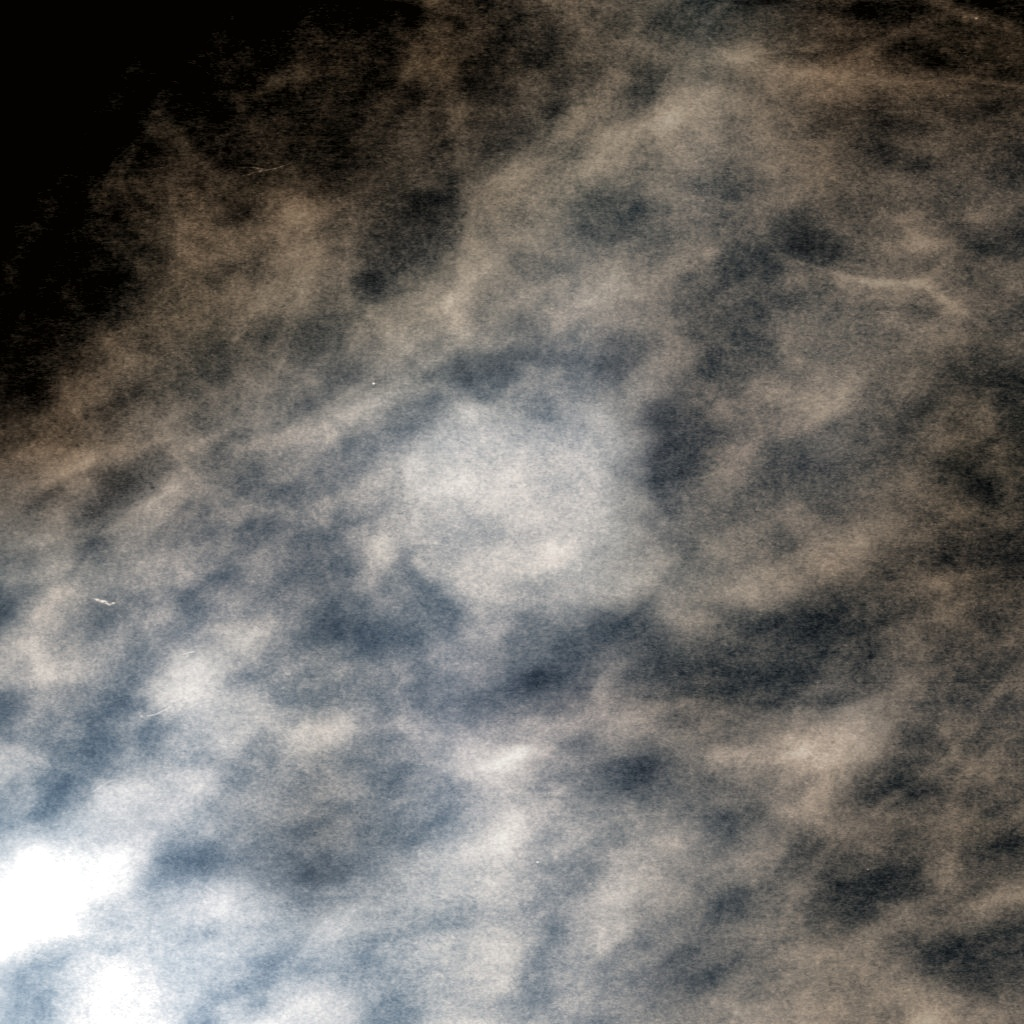tumor: (347, 366, 677, 658)
